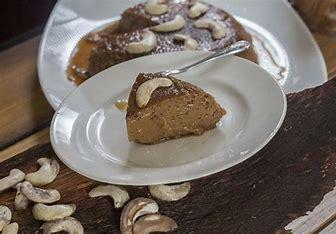Watalappam: (121, 59, 232, 156)
